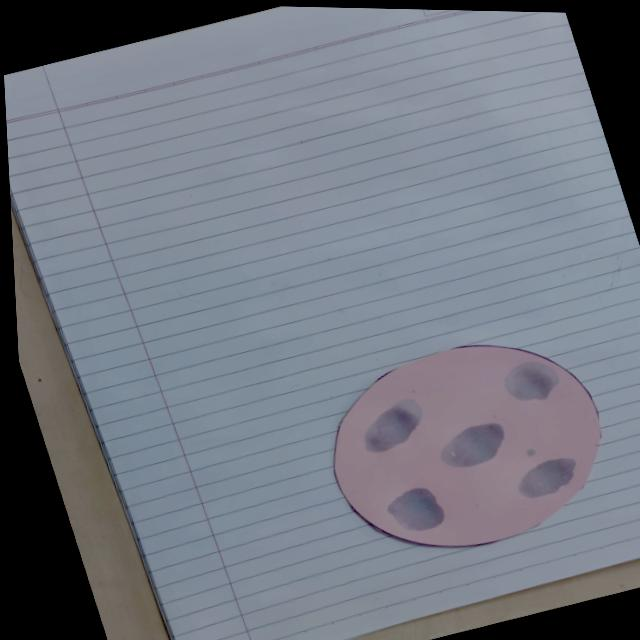BlueColor: (364, 398, 421, 452), (440, 423, 504, 467), (387, 487, 444, 531), (518, 458, 575, 498), (504, 361, 559, 400), (526, 448, 535, 456)
